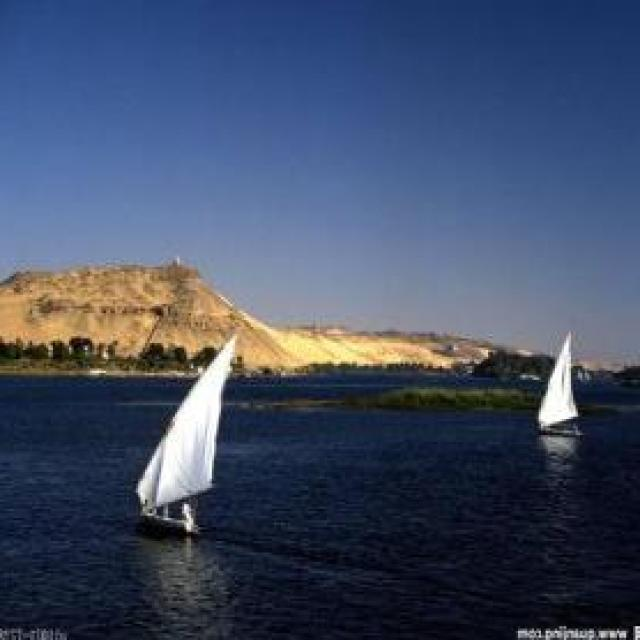sailboat: (130, 330, 249, 534), (530, 318, 601, 438)
